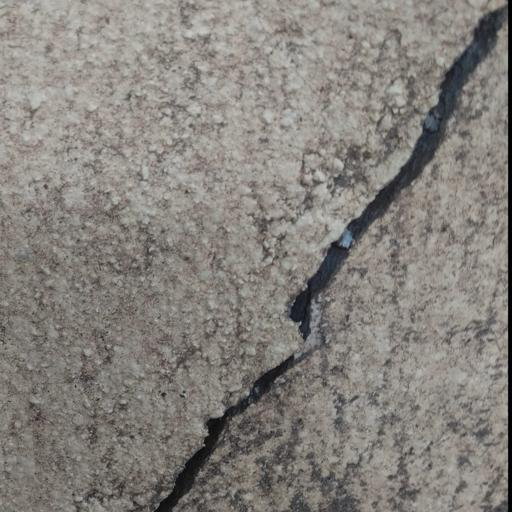major_crack: (162, 0, 509, 512)
